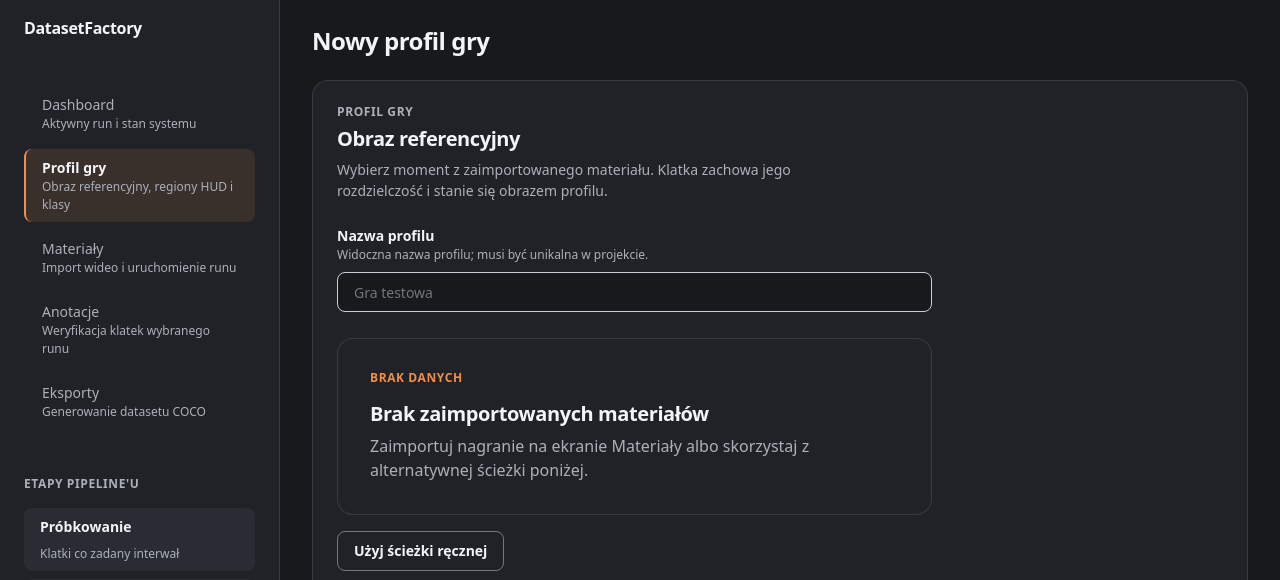
it: the reference image view has every state › surfaces a failed preview through the central error dictionary
Click the button "Użyj ścieżki ręcznej".
click(421, 551)  # box 337,531 -> 504,571
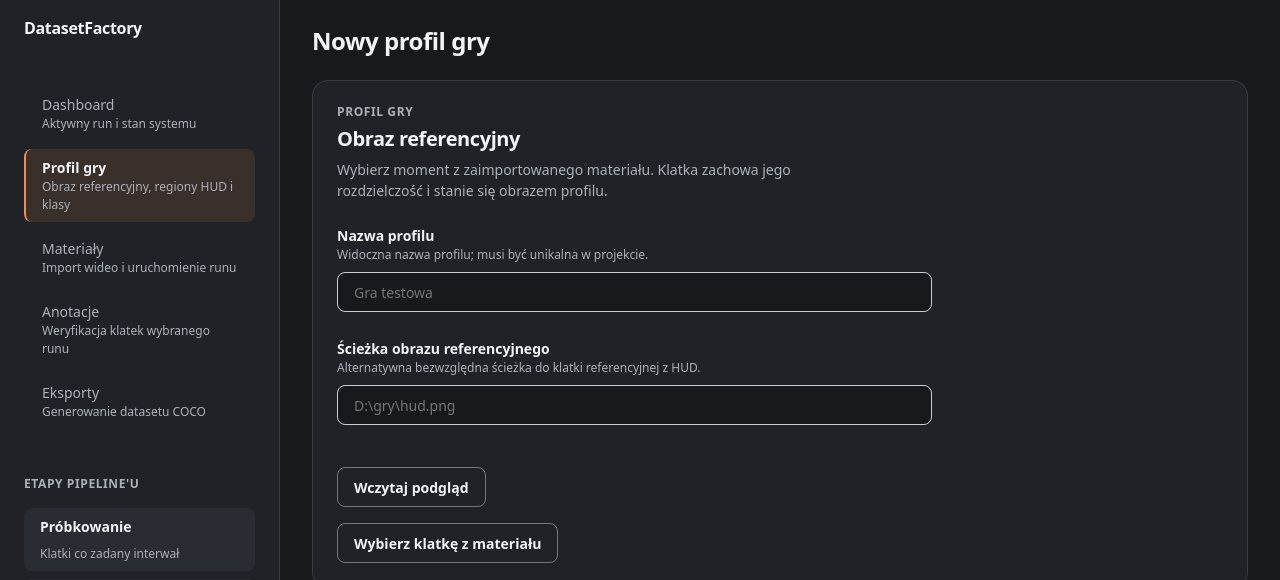
Type "D:\\missing.png" into the field labelled "Ścieżka obrazu referencyjnego".
click(634, 405); type("D:\\missing.png")  # box 337,385 -> 932,425
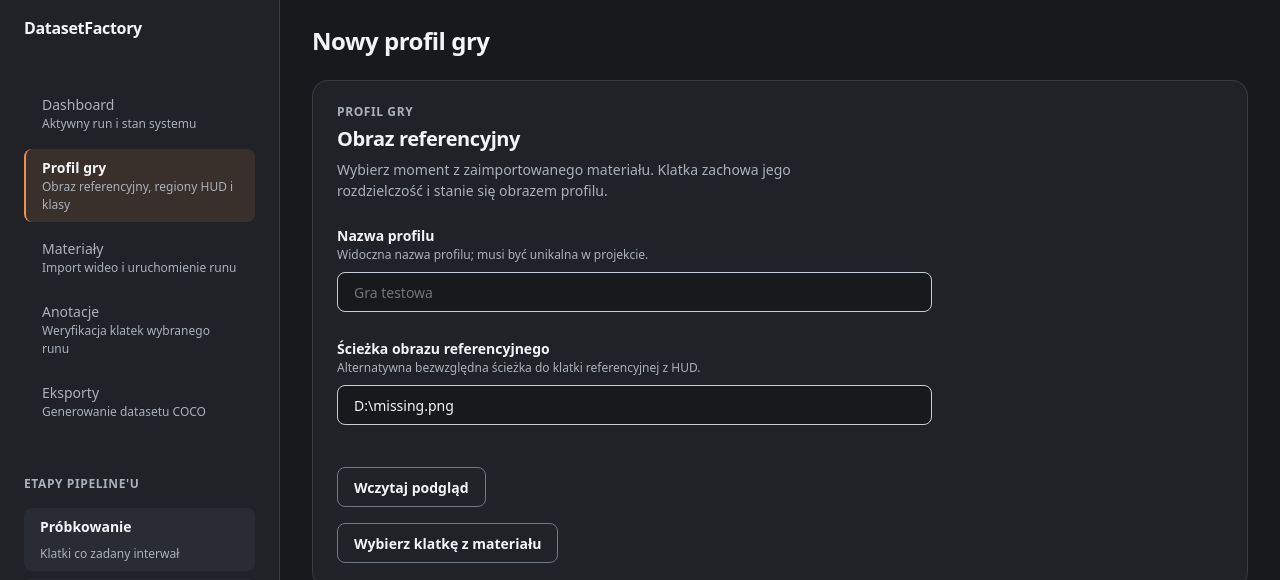
Click the button "Wczytaj podgląd".
click(411, 487)  # box 337,467 -> 486,507
(page scrolled)
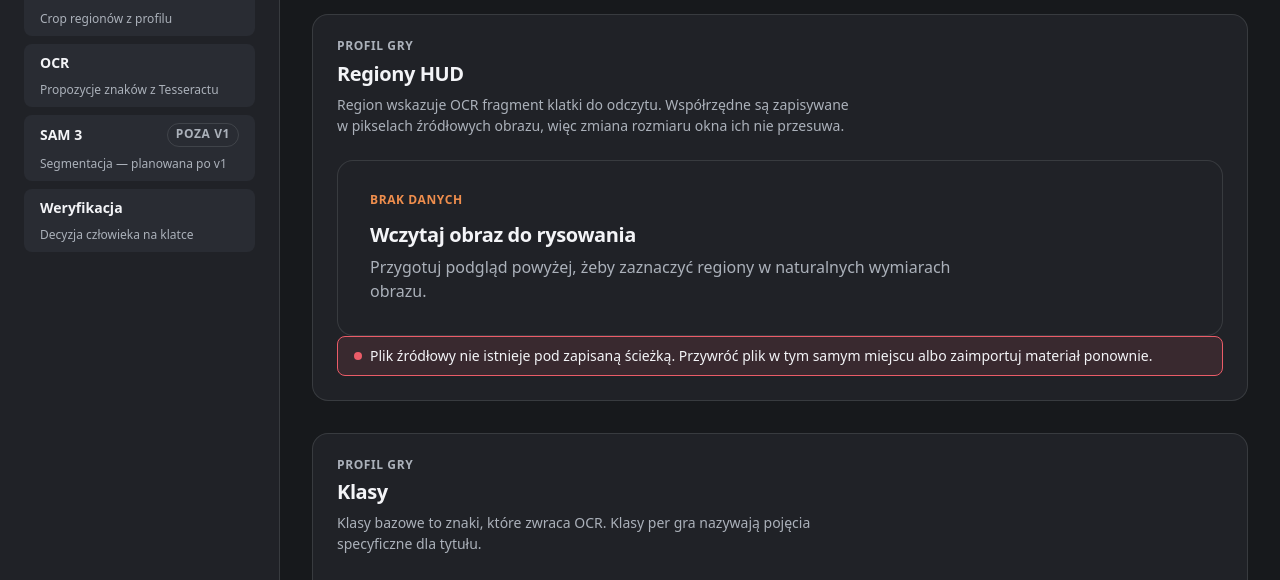
Result: the message shows "Plik źródłowy nie istnieje pod zapisaną ścieżką." at 370,346 -> 1152,366
